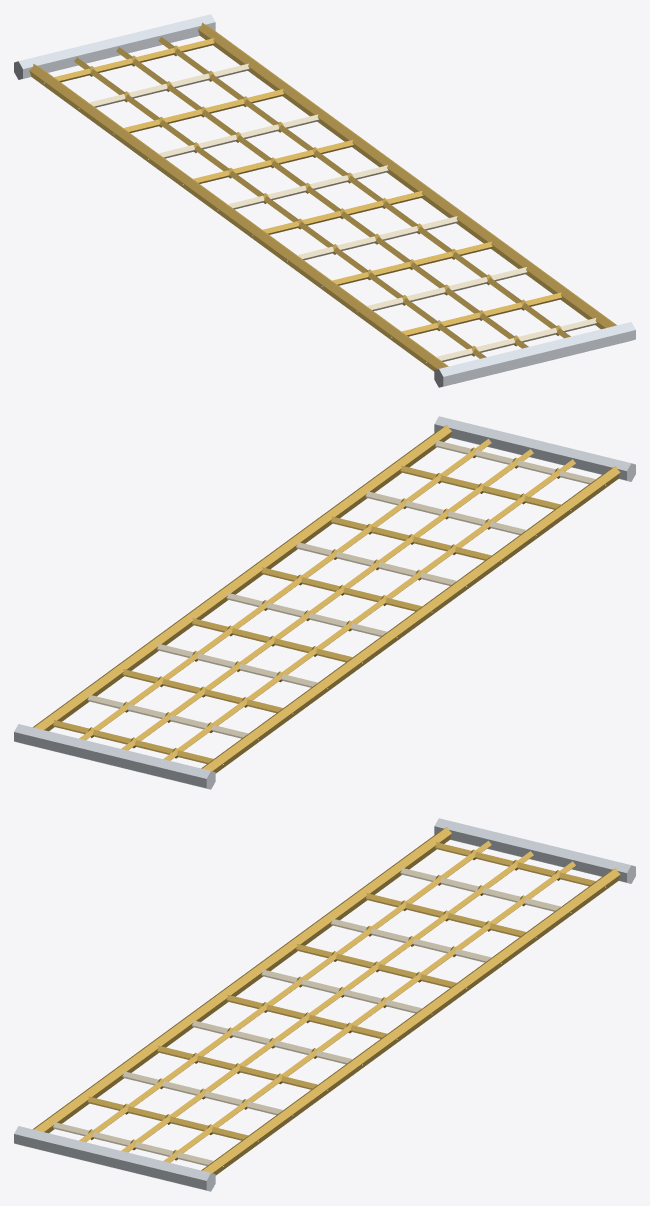
Rendered from ClimbNet.obj.
3 views of the same model, one above another, from view 1: azimuth 30°, elevation 25°; view 2: azimuth 150°, elevation 25°; view 3: azimuth 330°, elevation 25° (orthographic).
Bounding box in the file's own units: 3.2 × 0.3 × 12.36.
